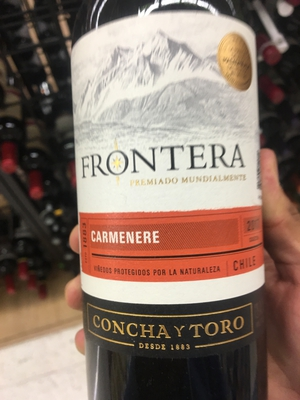frontera carmenere: (65, 10, 292, 377)
